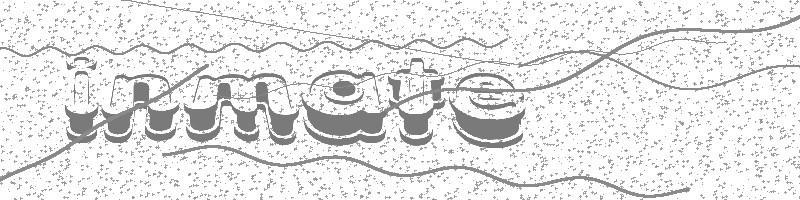a: (303, 70, 387, 145)
e: (453, 73, 525, 148)
i: (65, 57, 98, 144)
m: (184, 73, 300, 145)
n: (102, 74, 180, 144)
t: (390, 59, 446, 146)
